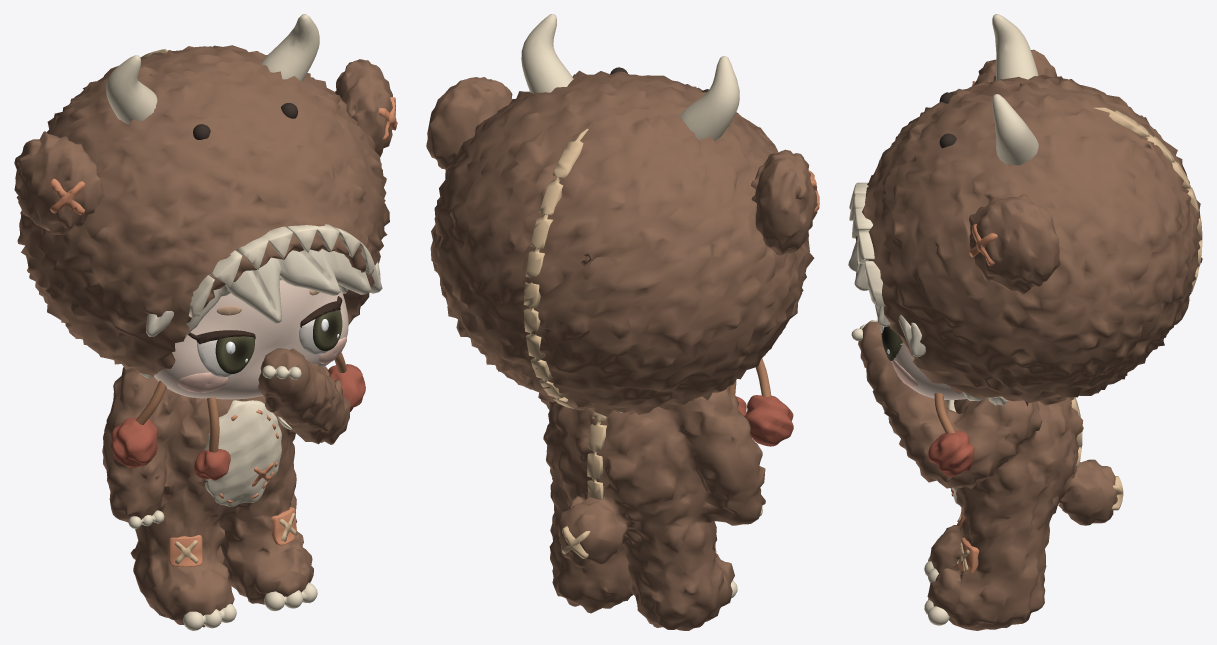
File: mumble_beast_roblox.glb
3 views of the same model, side by side, from view 1: azimuth 30°, elevation 25°; view 2: azimuth 150°, elevation 25°; view 3: azimuth 270°, elevation 25° (orthographic). The views are drawn at different scales.
Parts seen in each view (by area): view 1: MumbleBeast_Hood, MumbleBeast_Suit, MumbleBeast_Ears, MumbleBeast_Head, MumbleBeast_Hair, MumbleBeast_Belly, MumbleBeast_Horns, MumbleBeast_Teeth, MumbleBeast_Pompoms, MumbleBeast_Claws, MumbleBeast_Iris, MumbleBeast_KneePatches (+6 smaller); view 2: MumbleBeast_Hood, MumbleBeast_Suit, MumbleBeast_Ears, MumbleBeast_Horns, MumbleBeast_Seam, MumbleBeast_Pompoms; view 3: MumbleBeast_Hood, MumbleBeast_Suit, MumbleBeast_Ears, MumbleBeast_Horns, MumbleBeast_Teeth, MumbleBeast_Seam, MumbleBeast_Pompoms, MumbleBeast_Hair, MumbleBeast_Head, MumbleBeast_Claws, MumbleBeast_KneePatches.
Part boxes in pixels (left/top/right/bottom): MumbleBeast_Hood: left=16, top=45, right=389, bottom=375; MumbleBeast_Suit: left=102, top=348, right=350, bottom=627; MumbleBeast_Ears: left=14, top=59, right=392, bottom=235; MumbleBeast_Head: left=154, top=280, right=348, bottom=399; MumbleBeast_Hair: left=136, top=249, right=382, bottom=377; MumbleBeast_Belly: left=204, top=400, right=292, bottom=506; MumbleBeast_Horns: left=106, top=14, right=319, bottom=124; MumbleBeast_Teeth: left=188, top=224, right=373, bottom=317; MumbleBeast_Pompoms: left=110, top=364, right=365, bottom=480; MumbleBeast_Claws: left=128, top=365, right=317, bottom=630; MumbleBeast_Iris: left=215, top=310, right=342, bottom=373; MumbleBeast_KneePatches: left=168, top=507, right=297, bottom=566; MumbleBeast_Hood: left=430, top=70, right=814, bottom=416; MumbleBeast_Suit: left=538, top=387, right=765, bottom=630; MumbleBeast_Ears: left=426, top=77, right=817, bottom=255; MumbleBeast_Horns: left=521, top=14, right=739, bottom=140; MumbleBeast_Seam: left=523, top=128, right=607, bottom=500; MumbleBeast_Pompoms: left=736, top=395, right=793, bottom=446; MumbleBeast_Hood: left=855, top=74, right=1202, bottom=406; MumbleBeast_Suit: left=858, top=321, right=1117, bottom=630; MumbleBeast_Ears: left=969, top=49, right=1060, bottom=294; MumbleBeast_Horns: left=992, top=14, right=1038, bottom=165; MumbleBeast_Teeth: left=849, top=182, right=885, bottom=306; MumbleBeast_Seam: left=1057, top=107, right=1202, bottom=505; MumbleBeast_Pompoms: left=928, top=430, right=974, bottom=476; MumbleBeast_Hair: left=848, top=242, right=1007, bottom=405; MumbleBeast_Head: left=894, top=342, right=966, bottom=399; MumbleBeast_Claws: left=851, top=320, right=949, bottom=625; MumbleBeast_KneePatches: left=957, top=508, right=979, bottom=574.
Bounding box in the file's own units: 2.27 × 3.36 × 1.95.
Materials: 18 (18 with a texture image).
